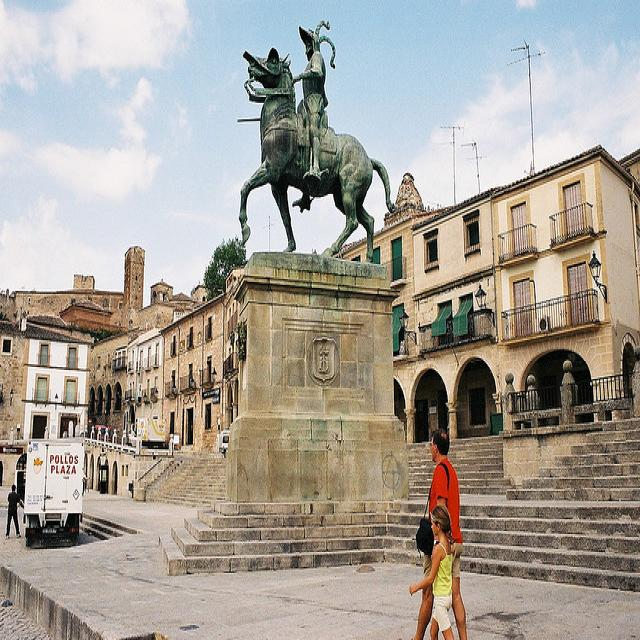Vehicle: (23, 439, 85, 549)
